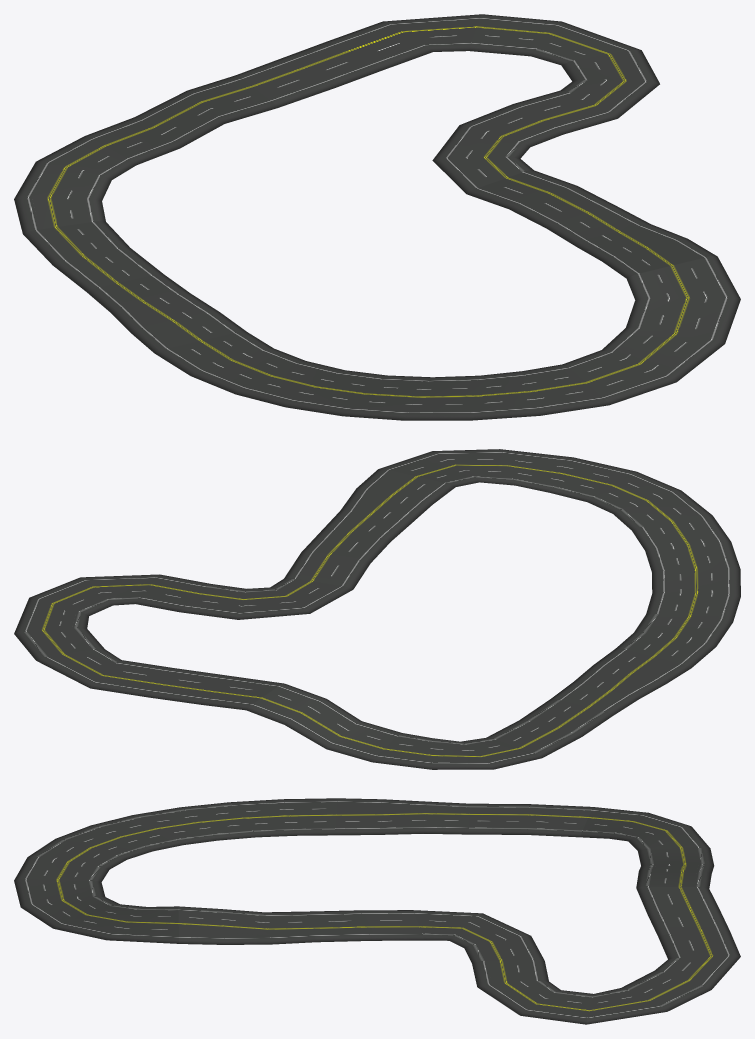
Rendered from roadlvl1.glb.
3 views of the same model, one above another, from view 1: azimuth 30°, elevation 25°; view 2: azimuth 150°, elevation 25°; view 3: azimuth 270°, elevation 25° (orthographic). The views are drawn at different scales.
Visible parts, largest first — view 1: road_mesh9, road_mesh10, road_mesh, road_mesh6, road_mesh4, road_mesh8, road_mesh13, road_mesh11, road_mesh7, road_mesh5, road_mesh3, road_mesh2 (+1 smaller); view 2: road_mesh9, road_mesh10, road_mesh, road_mesh11, road_mesh8, road_mesh4, road_mesh13, road_mesh6, road_mesh12, road_mesh7, road_mesh3, road_mesh5 (+1 smaller); view 3: road_mesh9, road_mesh10, road_mesh4, road_mesh11, road_mesh8, road_mesh13, road_mesh5, road_mesh7, road_mesh6, road_mesh3, road_mesh2, road_mesh12 (+1 smaller).
Part boxes in pixels (left/top/right/bottom): road_mesh9: left=155, top=332, right=608, bottom=420; road_mesh10: left=563, top=256, right=740, bottom=405; road_mesh: left=85, top=75, right=277, bottom=165; road_mesh6: left=14, top=136, right=135, bottom=233; road_mesh4: left=514, top=49, right=659, bottom=134; road_mesh8: left=87, top=274, right=246, bottom=353; road_mesh13: left=432, top=104, right=562, bottom=193; road_mesh11: left=546, top=206, right=717, bottom=278; road_mesh7: left=23, top=221, right=163, bottom=291; road_mesh5: left=469, top=14, right=640, bottom=65; road_mesh3: left=326, top=14, right=481, bottom=69; road_mesh2: left=236, top=42, right=382, bottom=107; road_mesh9: left=588, top=471, right=740, bottom=668; road_mesh10: left=379, top=449, right=635, bottom=502; road_mesh: left=246, top=683, right=401, bottom=762; road_mesh11: left=323, top=469, right=455, bottom=541; road_mesh8: left=551, top=648, right=690, bottom=715; road_mesh4: left=30, top=574, right=210, bottom=615; road_mesh13: left=180, top=578, right=352, bottom=619; road_mesh6: left=372, top=733, right=541, bottom=769; road_mesh12: left=284, top=528, right=390, bottom=589; road_mesh7: left=486, top=699, right=613, bottom=757; road_mesh3: left=36, top=648, right=172, bottom=697; road_mesh5: left=14, top=597, right=104, bottom=660; road_mesh9: left=14, top=798, right=337, bottom=882; road_mesh10: left=14, top=879, right=178, bottom=943; road_mesh4: left=472, top=959, right=593, bottom=1024; road_mesh11: left=178, top=906, right=315, bottom=944; road_mesh8: left=335, top=798, right=470, bottom=835; road_mesh13: left=412, top=910, right=544, bottom=963; road_mesh5: left=586, top=970, right=711, bottom=1024; road_mesh7: left=468, top=803, right=593, bottom=837; road_mesh6: left=580, top=807, right=710, bottom=850; road_mesh3: left=655, top=930, right=740, bottom=989; road_mesh2: left=636, top=886, right=729, bottom=936; road_mesh12: left=309, top=910, right=424, bottom=942.
Size of the model in its own units: 167 by 13.93 by 199.
1 material, 1 textured.
